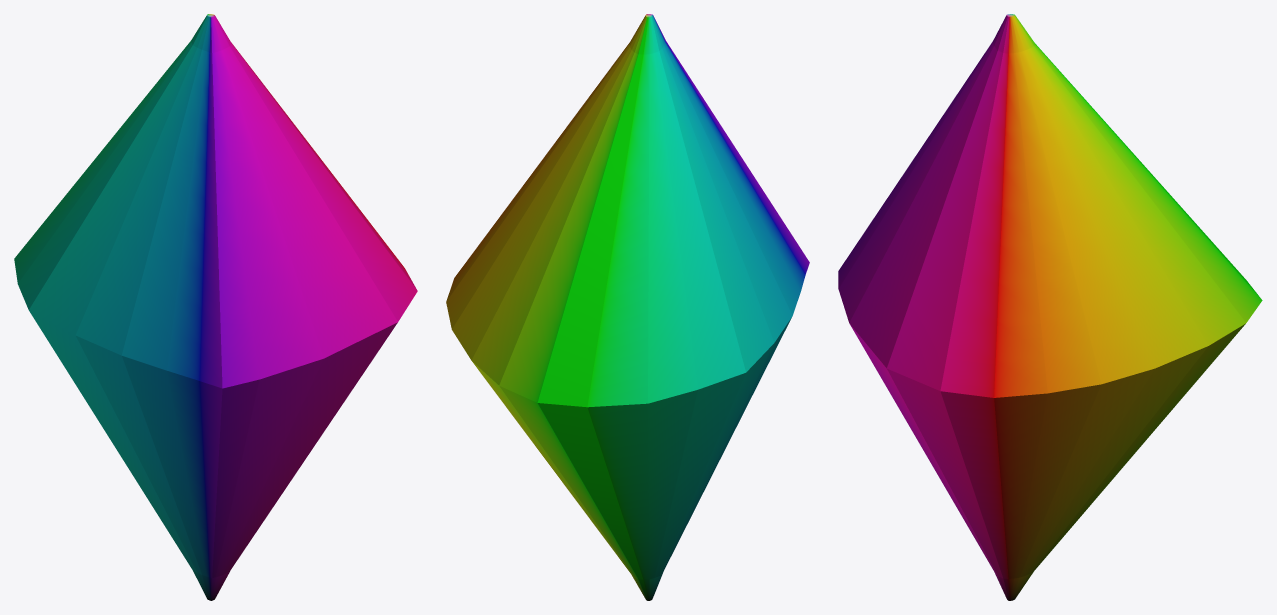
Rendered from CIE_True_3D_Gamut.gltf.
The picture shows the model from 3 angles, left to right: view 1: azimuth 30°, elevation 25°; view 2: azimuth 150°, elevation 25°; view 3: azimuth 270°, elevation 25°; orthographic projection.
Bounding box in the file's own units: 7 × 12 × 7.9.
